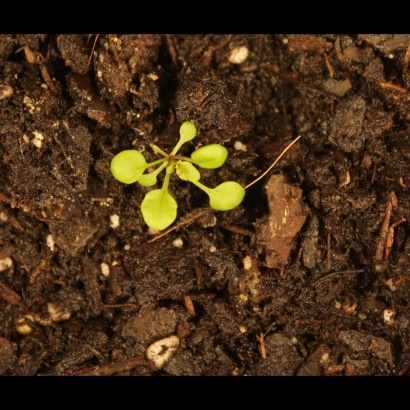leaf: (103, 139, 152, 188), (141, 182, 181, 238), (206, 179, 248, 215), (191, 144, 233, 171), (174, 160, 203, 186), (176, 116, 201, 146), (135, 171, 158, 194)
